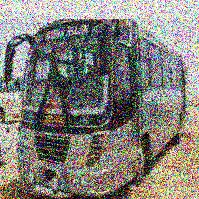bus: (2, 14, 190, 197)
